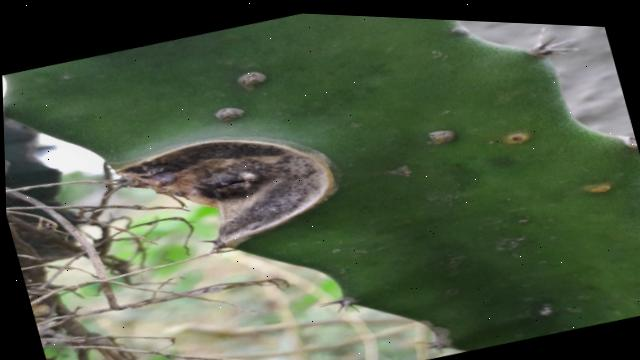stemcanker: (209, 102, 248, 126), (231, 65, 270, 89), (423, 125, 462, 149), (495, 125, 534, 149), (578, 177, 617, 201)
